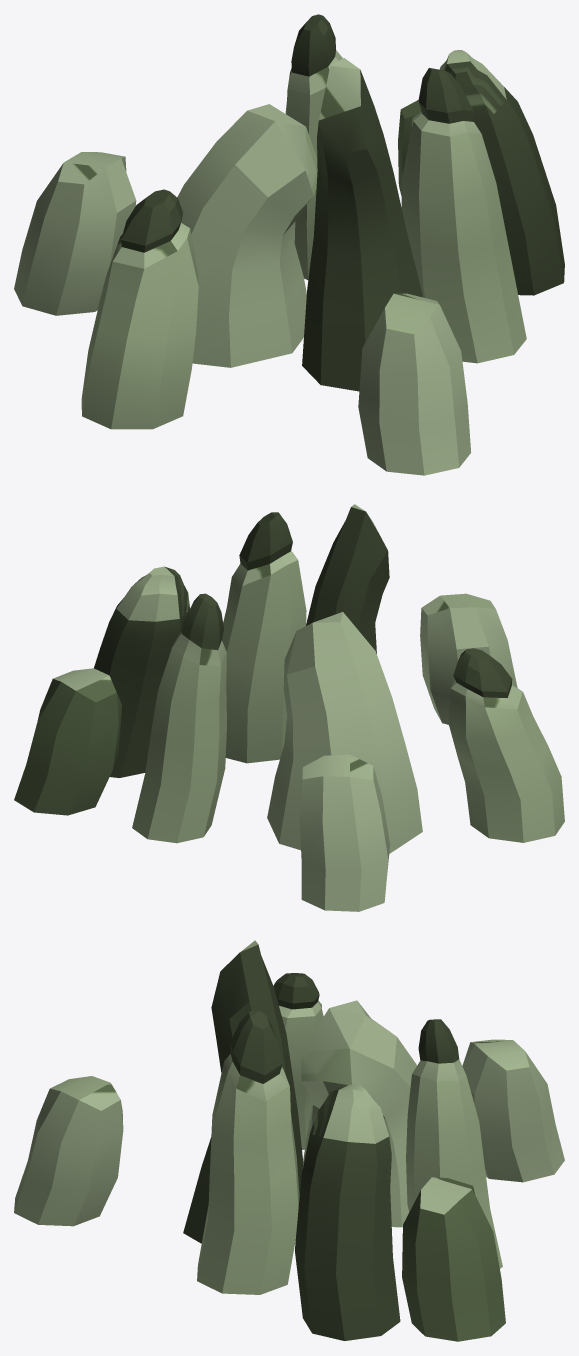
Rendered from EA_Swamp_Root_05b.glb.
3 views of the same model, one above another, from view 1: azimuth 30°, elevation 25°; view 2: azimuth 150°, elevation 25°; view 3: azimuth 270°, elevation 25° (orthographic). The views are drawn at different scales.
Visible parts, largest first — view 1: EA_Swamp_Root_05b; view 2: EA_Swamp_Root_05b; view 3: EA_Swamp_Root_05b.
Boxes of the visible parts, x1,y1,x2,y2 form: EA_Swamp_Root_05b: (14, 14, 564, 475); EA_Swamp_Root_05b: (14, 504, 564, 911); EA_Swamp_Root_05b: (14, 940, 564, 1341).
Bounding box in the file's own units: 2.56 × 1.46 × 2.6.
1 material, 1 textured.
